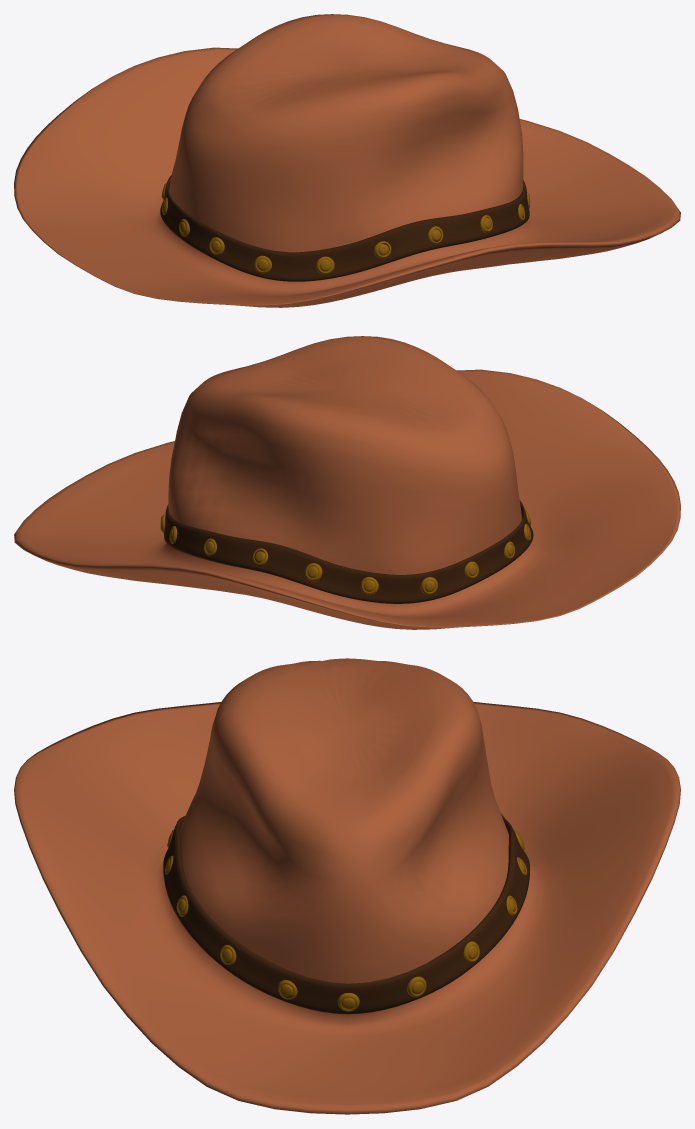
File: IE_HAT_1_P.fbx
The picture shows the model from 3 angles, top to bottom: view 1: azimuth 30°, elevation 25°; view 2: azimuth 150°, elevation 25°; view 3: azimuth 270°, elevation 25°; orthographic projection. The views are drawn at different scales.
Visible parts, largest first — view 1: Circle.002, Circle.003; view 2: Circle.002, Circle.003; view 3: Circle.002, Circle.003.
Part boxes in pixels (x1,y1,x2,y2): Circle.002: (14,14,680,307); Circle.003: (160,175,529,281); Circle.002: (14,336,680,629); Circle.003: (164,500,533,603); Circle.002: (14,658,680,1114); Circle.003: (163,814,530,1014).
Bounding box in the file's own units: 399 × 136 × 331.
